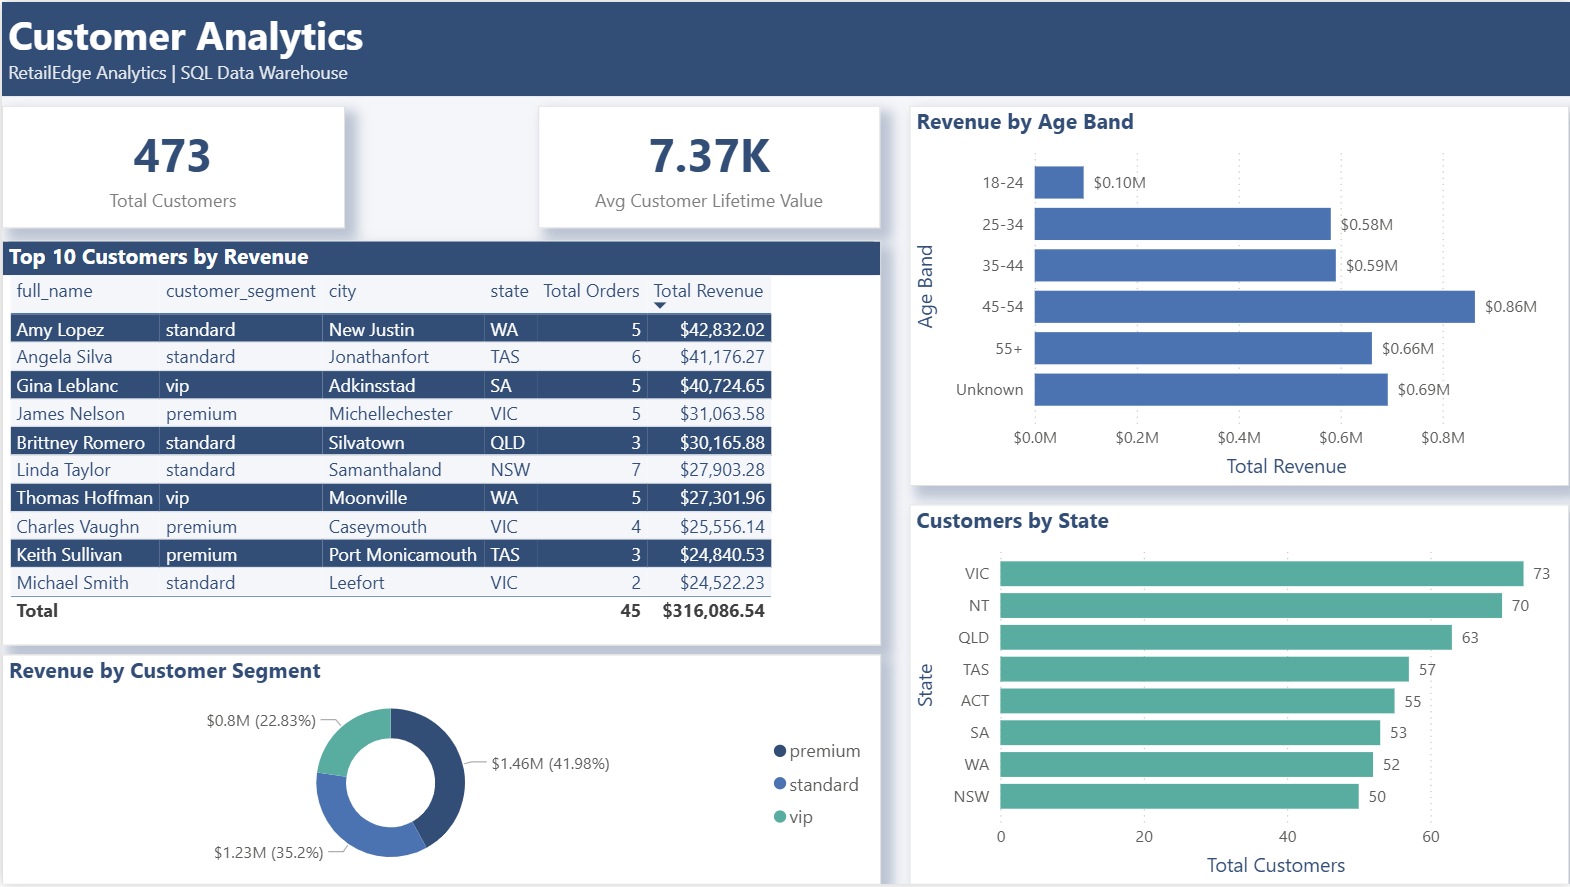

Layout of this report page (visuals, bound fields, positions):
{"tool":"powerbi","page":{"name":"Customer Analytics","canvas":[1280,720],"ordinal":2},"visuals":[{"type":"textbox","box":[0,0,1279.8,76.6],"z":0},{"type":"card","fields":{"Values":["gold dim_customer.Total Customers"]},"box":[0,84.3,279.8,100],"z":1},{"type":"card","fields":{"Values":["gold dim_customer.Avg Customer Lifetime Value"]},"box":[437.8,84.7,279.6,100],"z":2},{"type":"tableEx","title":"Top 10 Customers by Revenue","fields":{"Values":["gold dim_customer.full_name","gold dim_customer.customer_segment","gold dim_customer.city","gold dim_customer.state","gold fact_sales.Total Orders","gold fact_sales.Total Revenue"]},"box":[0,194.9,717.3,330.6],"z":5},{"type":"donutChart","title":"Revenue by Customer Segment","fields":{"Y":["gold fact_sales.Total Revenue"],"Category":["gold dim_customer.customer_segment"]},"box":[0,532.7,717.3,187.8],"z":7},{"type":"clusteredBarChart","title":" Revenue by Age Band","fields":{"Category":["gold dim_customer.age_band"],"Y":["gold fact_sales.Total Revenue"]},"box":[740.8,84.7,538.8,310.2],"z":8},{"type":"clusteredBarChart","title":" Customers by State","fields":{"Category":["gold dim_customer.state"],"Y":["gold dim_customer.Total Customers"]},"box":[740.8,410.2,538.8,310.2],"z":9}]}

Visuals, with their boxes in screenshot pixels (x1, y1, x2, y2), scaled from the page's 1280x720 canvas onto the 1570x887 screenshot:
textbox: region(0, 0, 1569, 94)
card - gold dim_customer.Total Customers: region(0, 104, 343, 227)
card - gold dim_customer.Avg Customer Lifetime Value: region(537, 104, 880, 228)
"Top 10 Customers by Revenue" tableEx: region(0, 240, 880, 647)
"Revenue by Customer Segment" donutChart: region(0, 656, 880, 886)
" Revenue by Age Band" clusteredBarChart: region(909, 104, 1569, 486)
" Customers by State" clusteredBarChart: region(909, 505, 1569, 886)
